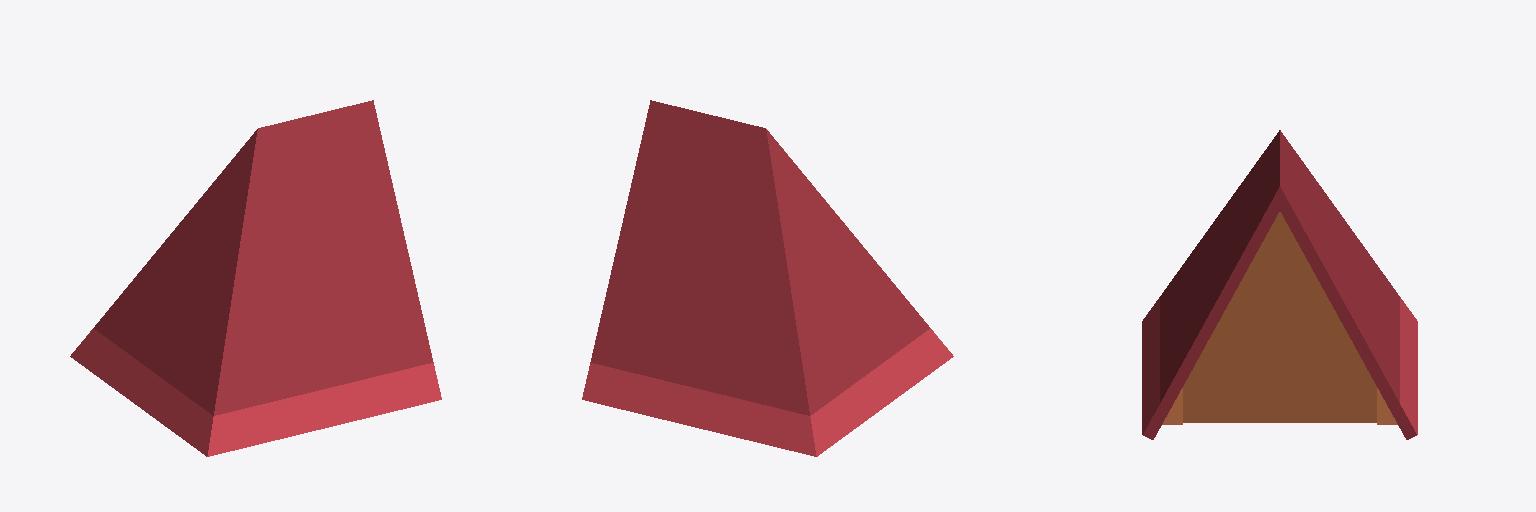
File: roofHighGableEnd.obj
The picture shows the model from 3 angles: view 1: azimuth 30°, elevation 25°; view 2: azimuth 150°, elevation 25°; view 3: azimuth 270°, elevation 25°; orthographic projection.
Visible parts, largest first — view 1: roofHighGableEnd; view 2: roofHighGableEnd; view 3: roofHighGableEnd.
Boxes of the visible parts, x1,y1,x2,y2 form: roofHighGableEnd: [70, 100, 441, 456]; roofHighGableEnd: [582, 100, 953, 456]; roofHighGableEnd: [1142, 130, 1417, 439].
Size of the model in its own units: 1.12 by 1.16 by 1.13.